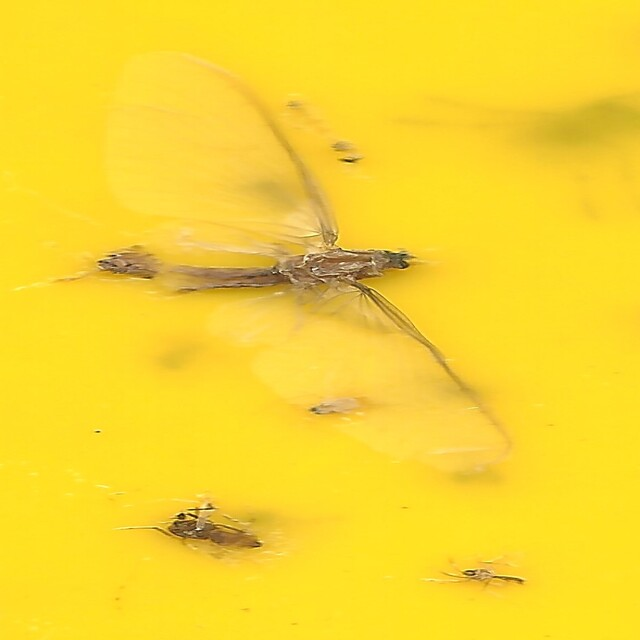Ephemeroptera: (109, 51, 528, 480)
Nematocera: (155, 509, 272, 556), (454, 567, 531, 589)
